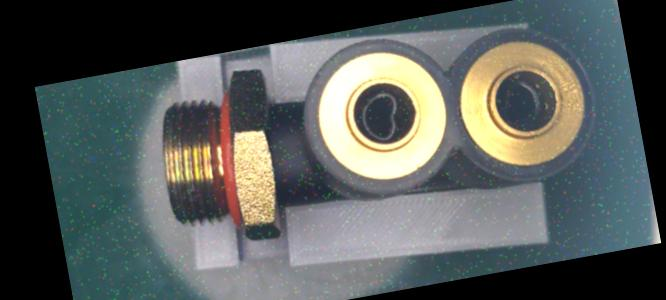off-centered: (352, 84, 411, 146), (493, 75, 550, 133)
